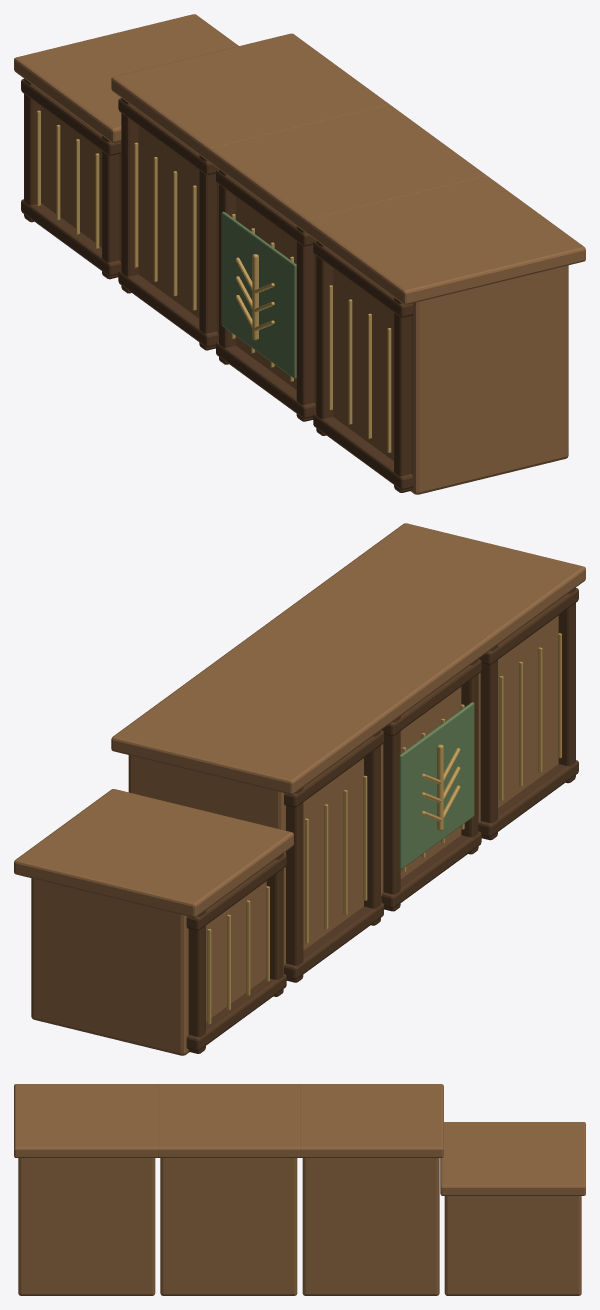
The model's file is SM_HH_Art_CounterStepped.fbx.
3 renders of one model, top to bottom at view 1: azimuth 30°, elevation 25°; view 2: azimuth 150°, elevation 25°; view 3: azimuth 270°, elevation 25°, orthographic. The views are drawn at different scales.
Visible parts, largest first — view 1: HH_Art_CounterStepped; view 2: HH_Art_CounterStepped; view 3: HH_Art_CounterStepped.
Part boxes in pixels (<box>): HH_Art_CounterStepped: <box>14,14,585,494</box>; HH_Art_CounterStepped: <box>14,523,585,1055</box>; HH_Art_CounterStepped: <box>14,1084,585,1295</box>.
Size of the model in its own units: 3.42 by 0.9385 by 1.01.
